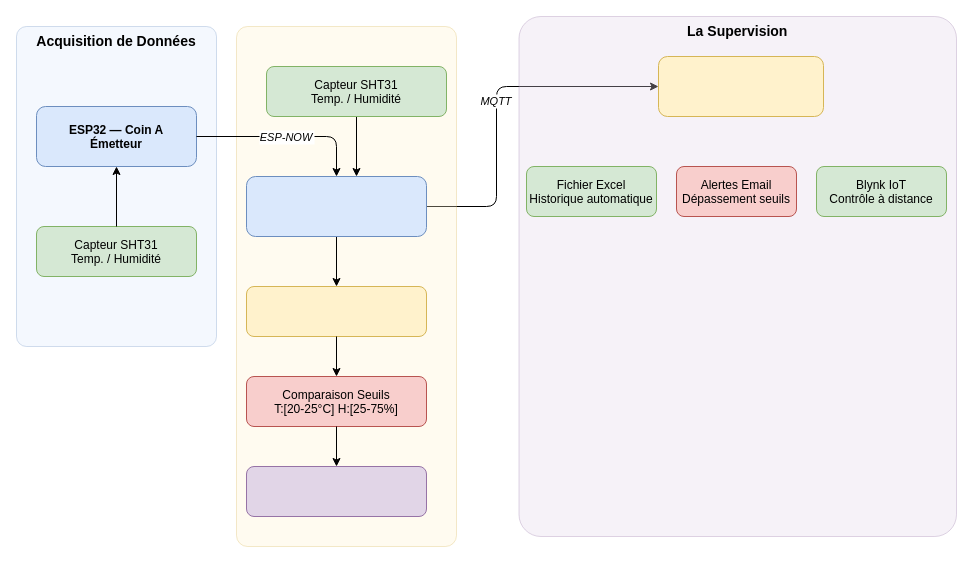
Some shapes in this 973 by 563 pixel diagram are drawn without their labels. The box of each missing label's shape, as (x1, y1, x2, y2) in pixels:
Calcul Moyenne Coins A + B: (246, 286, 426, 336)
Dashboard Node-RED Visualisation temps réel: (658, 56, 824, 116)
ESP32 — Coin B Récepteur + Décision: (246, 176, 426, 236)
Module LED IR Climatiseur — Mode Dry: (246, 466, 426, 516)
Traitement & Régulation: (236, 26, 456, 546)
